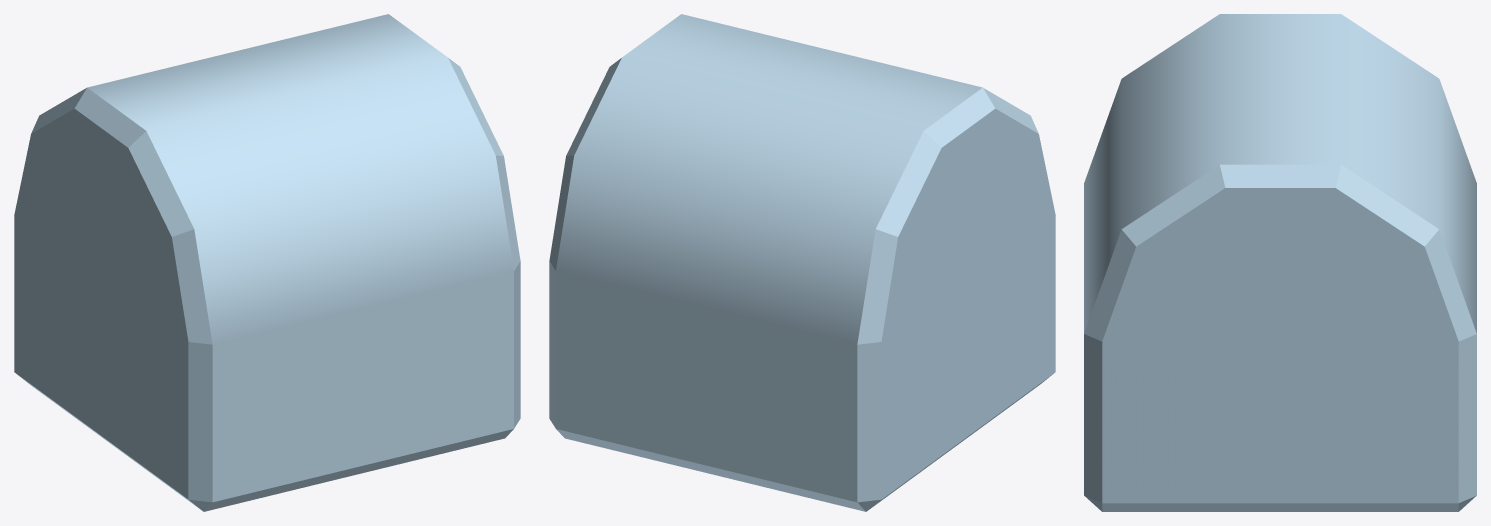
Rendered from R4B_RoundTop_LOD1.glb.
3 views of the same model, side by side, from view 1: azimuth 30°, elevation 25°; view 2: azimuth 150°, elevation 25°; view 3: azimuth 270°, elevation 25° (orthographic). The views are drawn at different scales.
Parts seen in each view (by area): view 1: R4B_RoundTop_LOD1; view 2: R4B_RoundTop_LOD1; view 3: R4B_RoundTop_LOD1.
Boxes of the visible parts, x1,y1,x2,y2 form: R4B_RoundTop_LOD1: (14,14,520,511); R4B_RoundTop_LOD1: (549,14,1055,511); R4B_RoundTop_LOD1: (1084,14,1476,511).
Bounding box in the file's own units: 0.52 × 0.5073 × 0.52.
